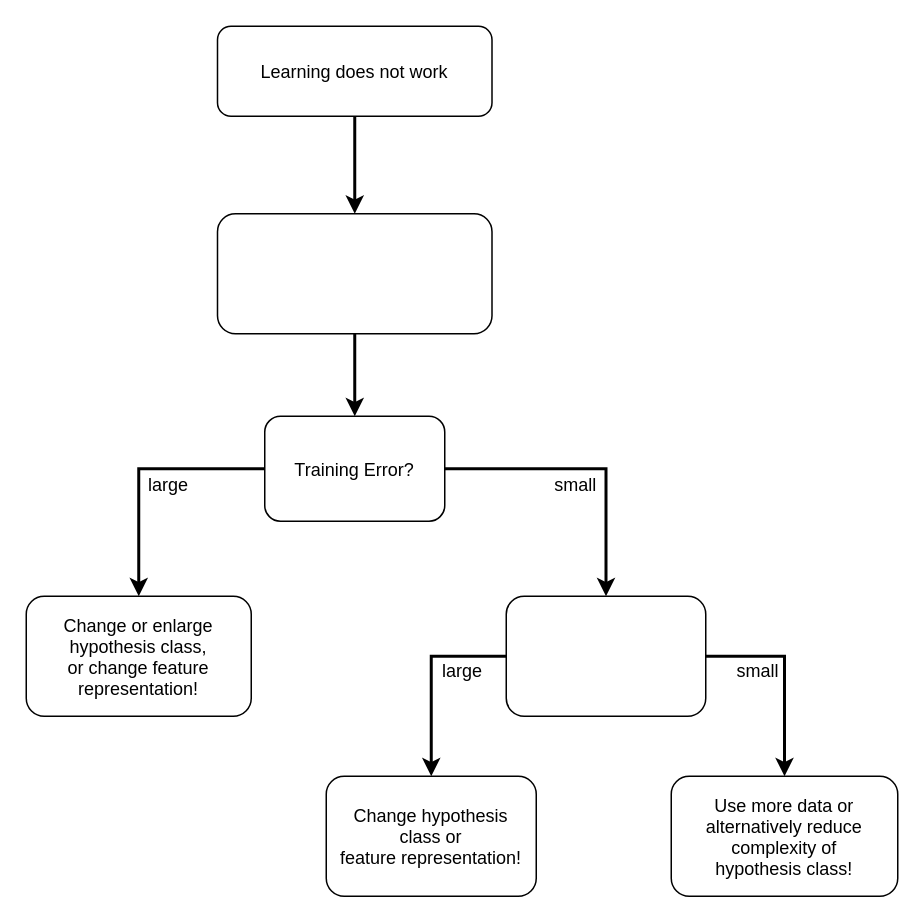
Image size: 924x923. Some labels were removed from this diagram. The shapes that lost their labels are listed below. From the top down, each one's centre as x and y in pixels, then its label:
At (354,273): "Use Model Selection curve. Check if parameters are ok".
At (605,655): "Plot learning curve! Check approximation error".
